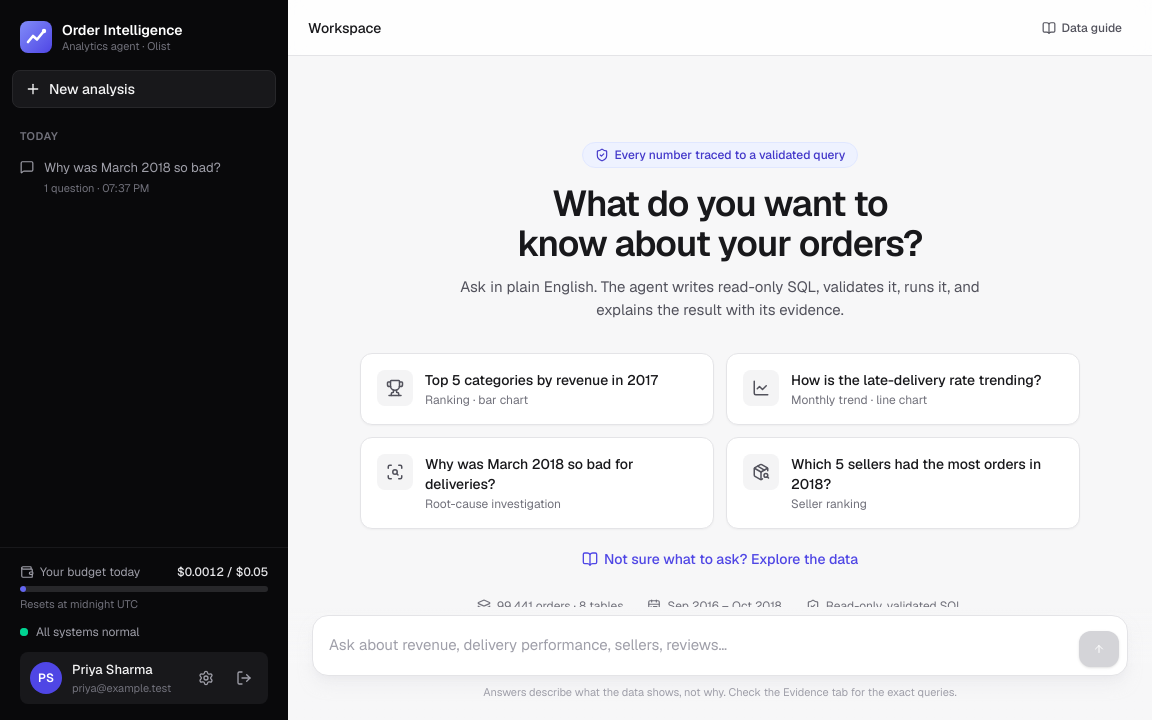
Test: Workspace › says when a reopened investigation's scope has expired
The width and height of the screenshot is (1152, 720).
Expected: the heading "What do you want to know about your orders?" is shown, [517,180,923,267]
Click the button "Why was March 2018 so bad? 1 question · 07:37 PM": (144, 177) [12,150,276,204]
(page scrolled)
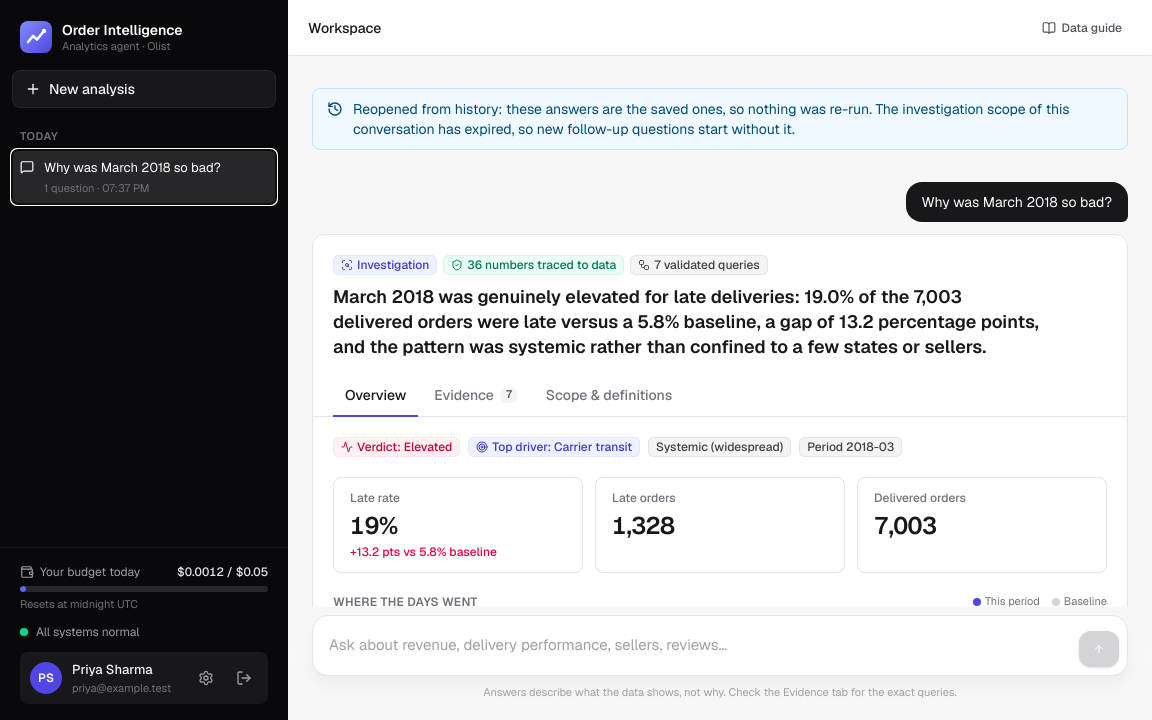
Expected: the text "scope of this conversation has expired" is shown, [353,100,1070,138]
